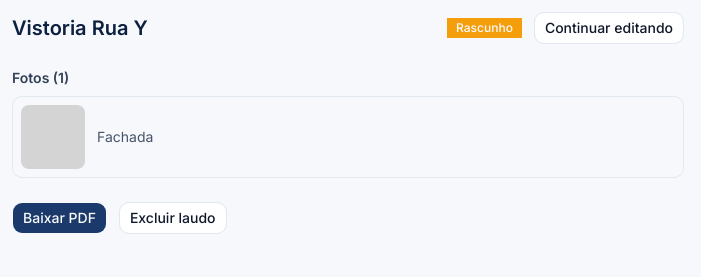
LaudoDetail › shows an error and re-enables the button when the PDF download fails
Click the button "Baixar PDF": (59, 218) left=12, top=202, right=107, bottom=234
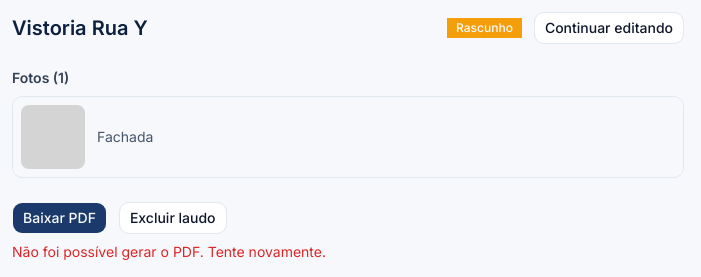
Now the text "Não foi possível gerar o PDF. Tente novamente." is shown, box left=12, top=243, right=326, bottom=260
